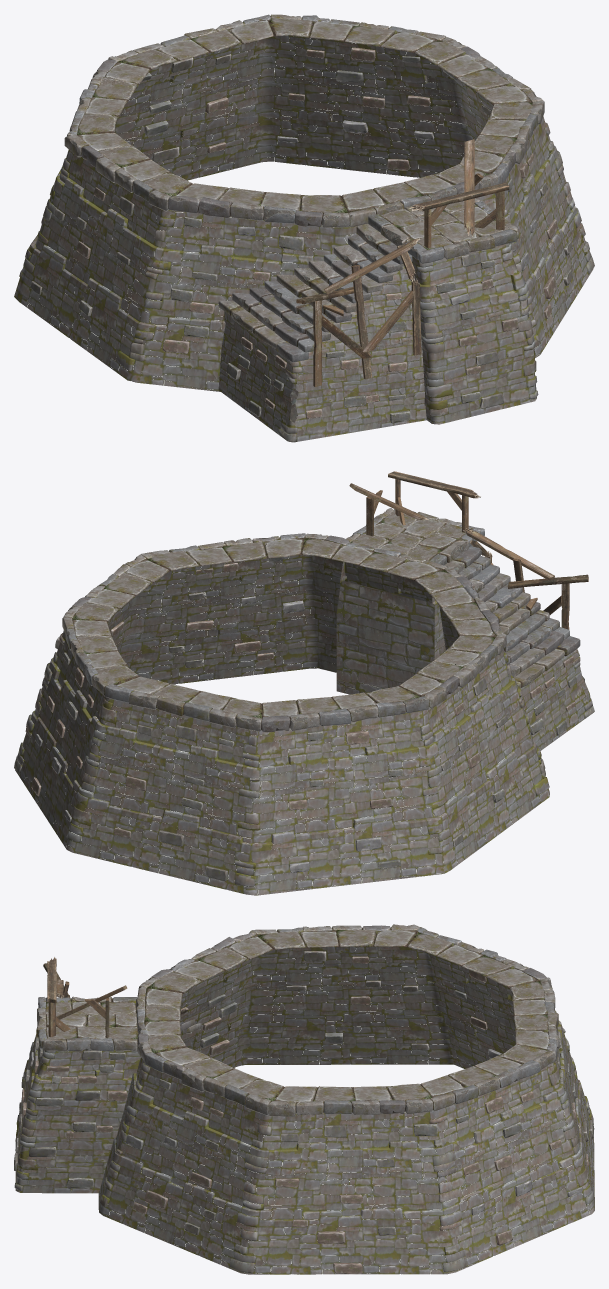
3 views of the same model, one above another, from view 1: azimuth 30°, elevation 25°; view 2: azimuth 150°, elevation 25°; view 3: azimuth 270°, elevation 25° (orthographic). The views are drawn at different scales.
Visible parts, largest first — view 1: SM_Windmill_01v2_Bottom_LOD0; view 2: SM_Windmill_01v2_Bottom_LOD0; view 3: SM_Windmill_01v2_Bottom_LOD0.
Boxes of the visible parts, bbox=[...] form: SM_Windmill_01v2_Bottom_LOD0: bbox=[14, 14, 594, 442]; SM_Windmill_01v2_Bottom_LOD0: bbox=[14, 471, 594, 895]; SM_Windmill_01v2_Bottom_LOD0: bbox=[14, 924, 594, 1274].
Size of the model in its own units: 13.88 by 6.26 by 16.15.
Materials: 5 (5 with a texture image).
